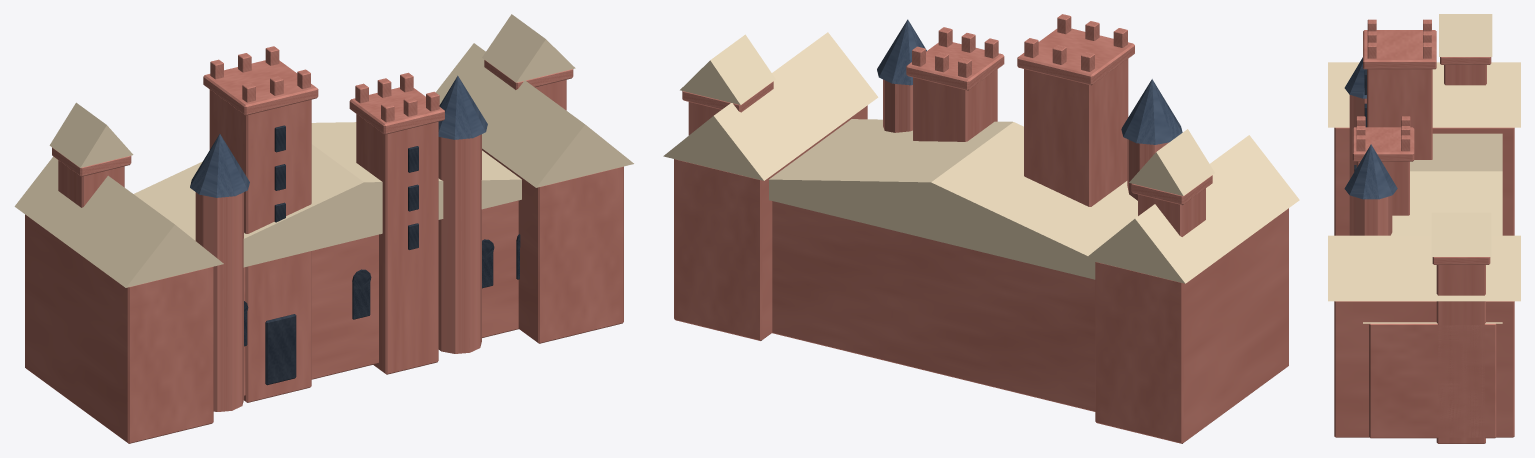
Rendered from smithsonian-castle.glb.
The picture shows the model from 3 angles, left to right: view 1: azimuth 30°, elevation 25°; view 2: azimuth 150°, elevation 25°; view 3: azimuth 270°, elevation 25°; orthographic projection. The views are drawn at different scales.
Parts seen in each view (by area): view 1: smithsonian-castle; view 2: smithsonian-castle; view 3: smithsonian-castle.
Part boxes in pixels (x1,y1,x2,y2): smithsonian-castle: (14,14,633,443); smithsonian-castle: (663,14,1299,443); smithsonian-castle: (1328,14,1520,443).
Size of the model in its own units: 12.43 by 7.34 by 4.7.
1 material, 1 textured.
